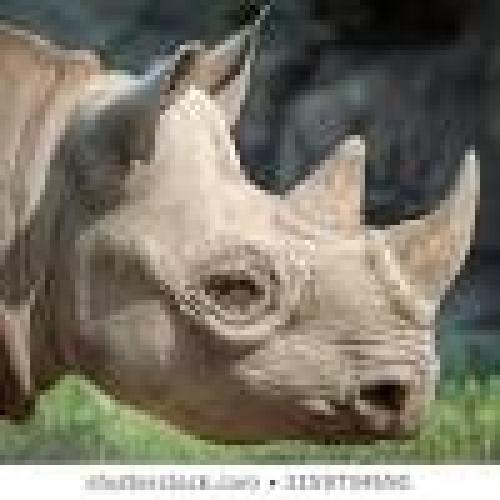rhino-endangered: (0, 10, 480, 447)
